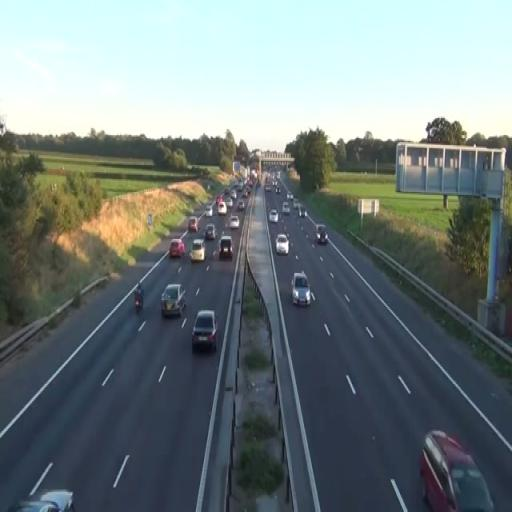Car: (419, 429, 495, 511), (192, 310, 218, 354), (160, 283, 186, 319), (290, 272, 311, 306), (190, 238, 205, 262), (219, 235, 232, 261), (169, 238, 185, 258), (314, 224, 328, 244), (276, 234, 289, 255), (205, 224, 217, 240), (269, 209, 278, 223), (230, 215, 239, 229)
